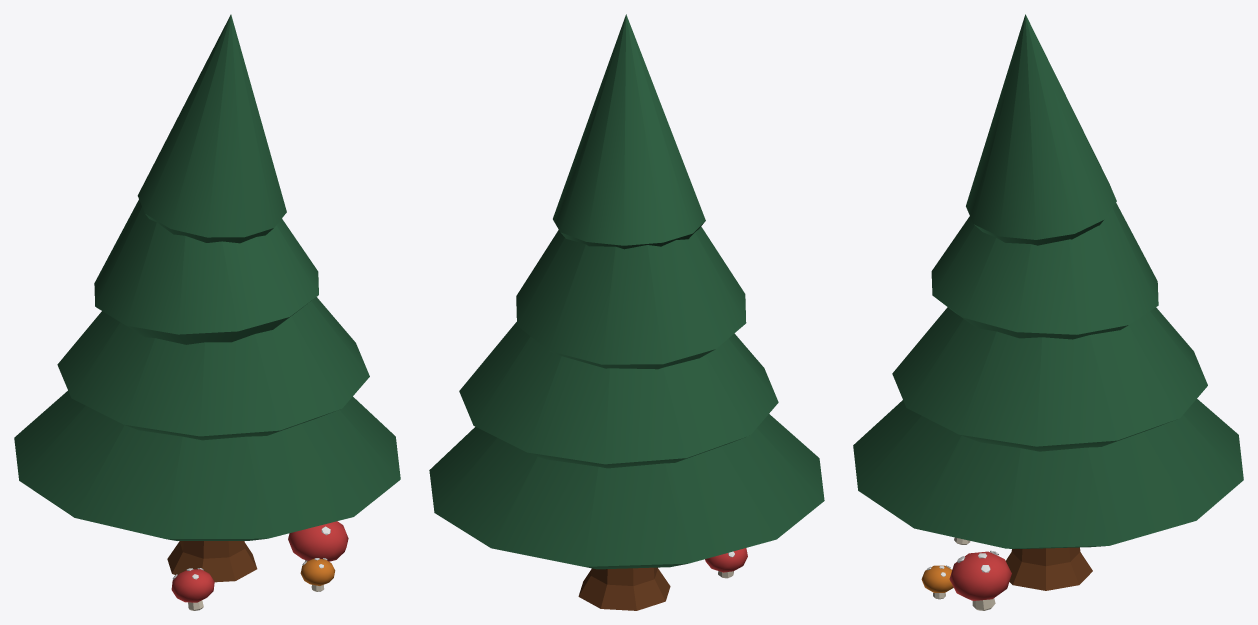
The model's file is p_tree_pine_dense_1.glb.
3 views of the same model, side by side, from view 1: azimuth 30°, elevation 25°; view 2: azimuth 150°, elevation 25°; view 3: azimuth 270°, elevation 25° (orthographic). The views are drawn at different scales.
Visible parts, largest first — view 1: body; view 2: body; view 3: body.
Part boxes in pixels (<box>): body: <box>14,14,400,610</box>; body: <box>429,14,824,610</box>; body: <box>853,14,1243,610</box>.
Bounding box in the file's own units: 3.48 × 5.53 × 3.48.
